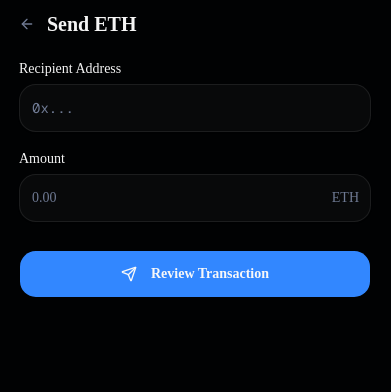
SendPage › shows gas estimate in ETH after valid inputs
Type "0x70997970C51812dc3A010C7d01b50e0d17dc79C8" into the field with placeholder "0x..." at (195, 108), box [19, 84, 371, 132]
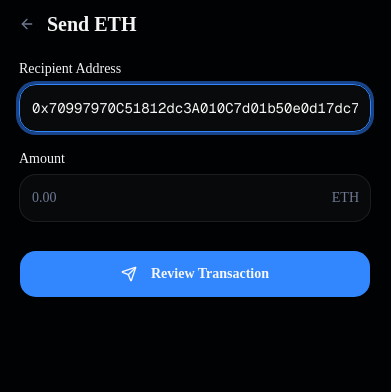
Type "0.01" into the number field with placeholder "0.00" at (195, 198), box [19, 174, 371, 222]
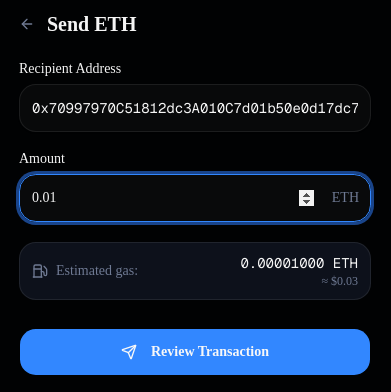
Check: the text "0.00001000 ETH" is shown, box [240, 253, 358, 273]
